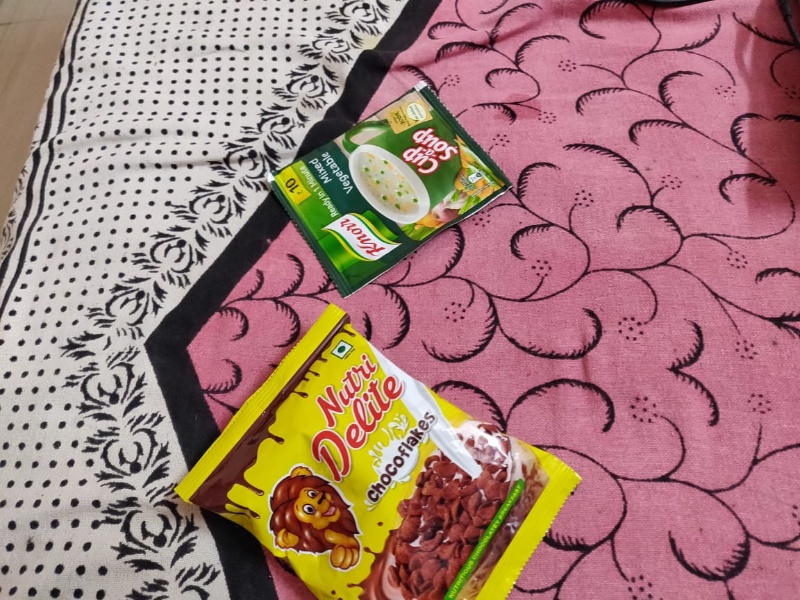Knorr_Cup_Soup: (248, 78, 516, 282)
nutriDelite: (164, 310, 574, 600)
